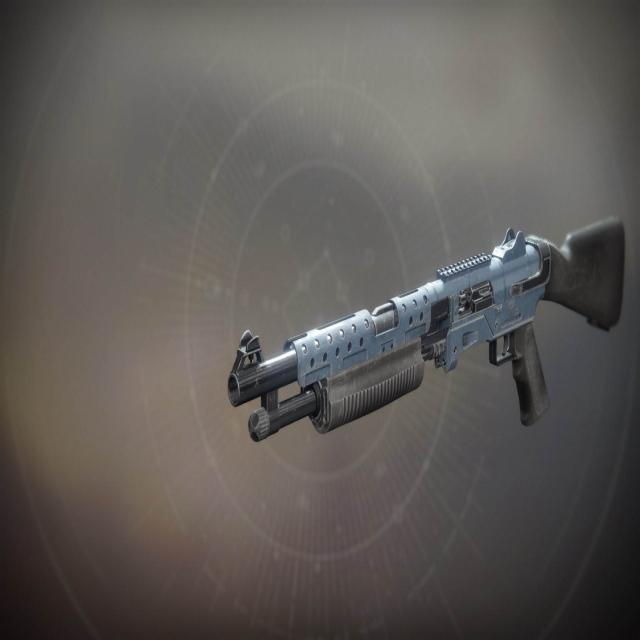ShotGun: (226, 217, 623, 443)
